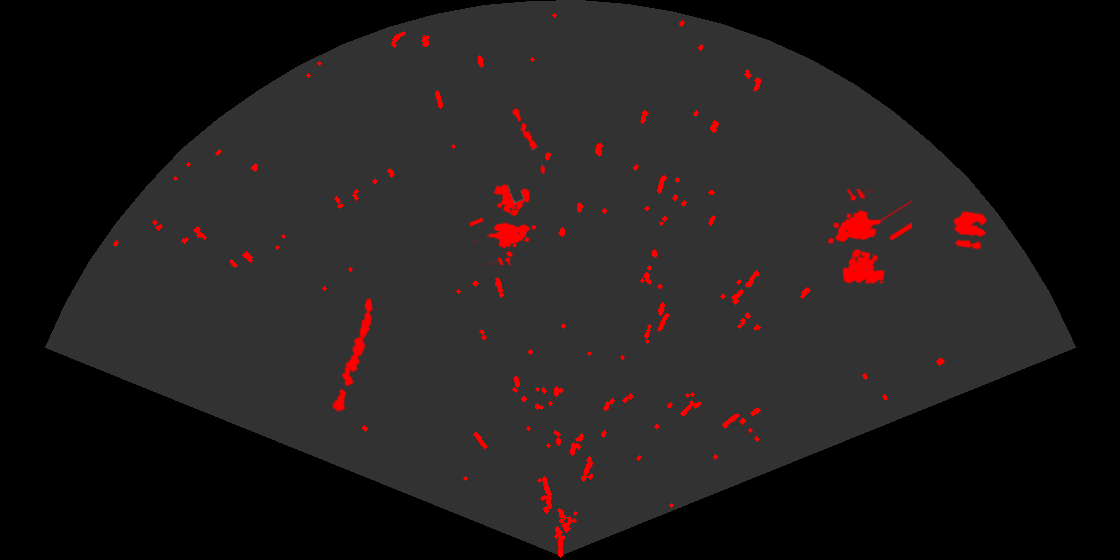ball: (952, 210, 989, 251)
cage: (826, 189, 912, 286), (470, 183, 538, 265)
chain: (330, 296, 375, 414), (509, 101, 547, 176)
